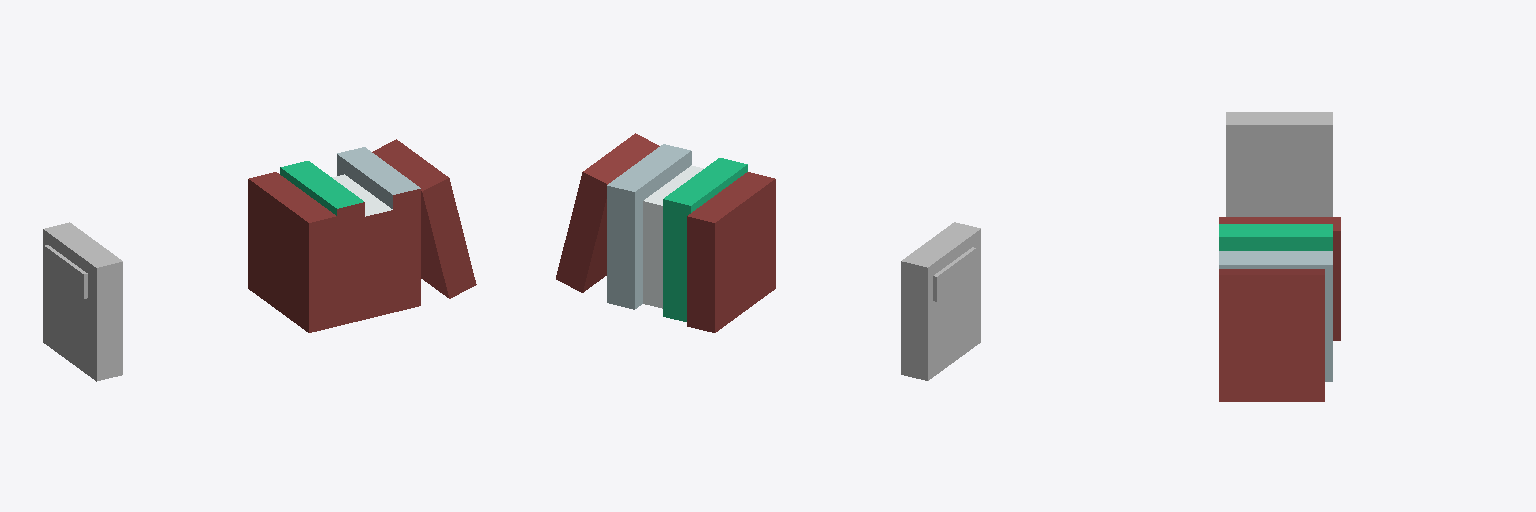
The model's file is passport.obj.
The picture shows the model from 3 angles: view 1: azimuth 30°, elevation 25°; view 2: azimuth 150°, elevation 25°; view 3: azimuth 270°, elevation 25°; orthographic projection.
Visible parts, largest first — view 1: books, Cube_Cube.001; view 2: books, Cube_Cube.001; view 3: books, Cube_Cube.001.
Part boxes in pixels (x1,y1,x2,y2): books: (248,139,476,332); Cube_Cube.001: (43,222,122,381); books: (556,133,775,332); Cube_Cube.001: (901,222,980,380); books: (1219,217,1340,401); Cube_Cube.001: (1226,112,1332,216).
Bounding box in the file's own units: 0.3415 × 0.1039 × 0.0945.